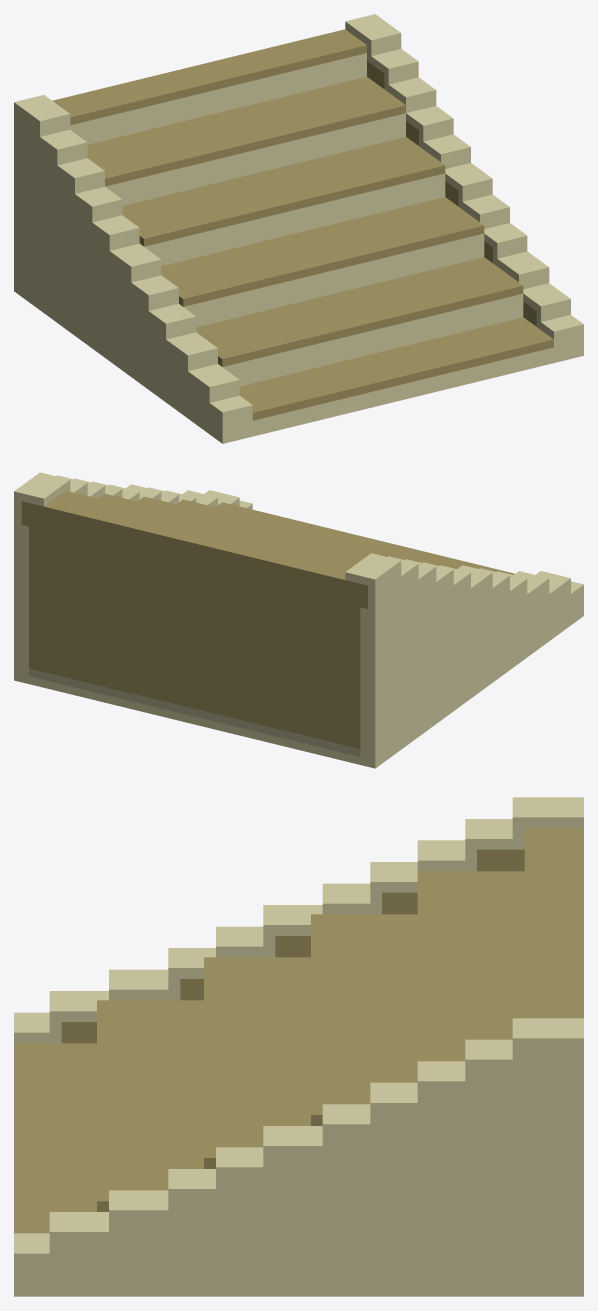
File: house-stairs.obj
3 views of the same model, one above another, from view 1: azimuth 30°, elevation 25°; view 2: azimuth 150°, elevation 25°; view 3: azimuth 270°, elevation 25° (orthographic). The views are drawn at different scales.
Bounding box in the file's own units: 4.8 × 2.4 × 4.8.
Materials: 1 (1 with a texture image).
